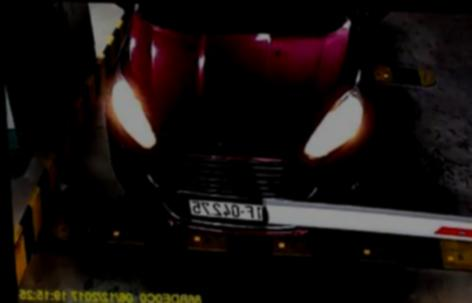License_Plate: (183, 197, 264, 221)
